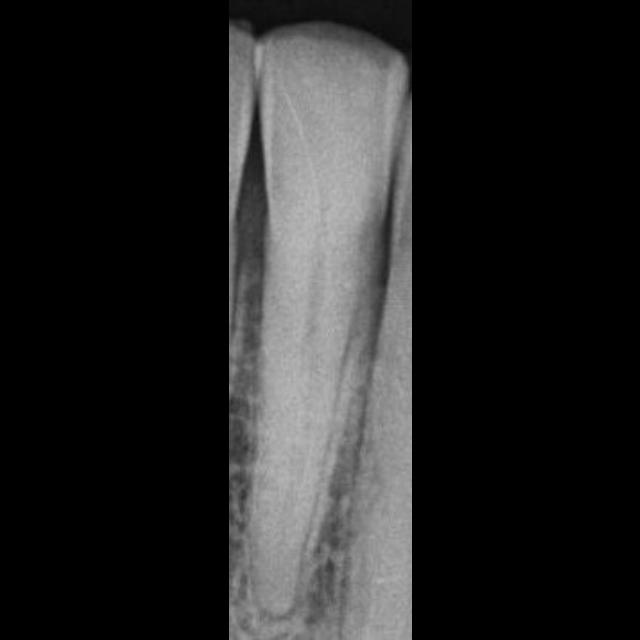tooth: (247, 19, 410, 617)
